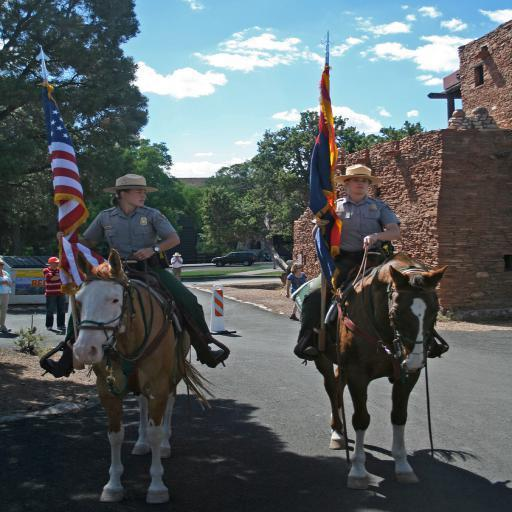horse: (72, 246, 216, 504), (310, 254, 450, 487)
